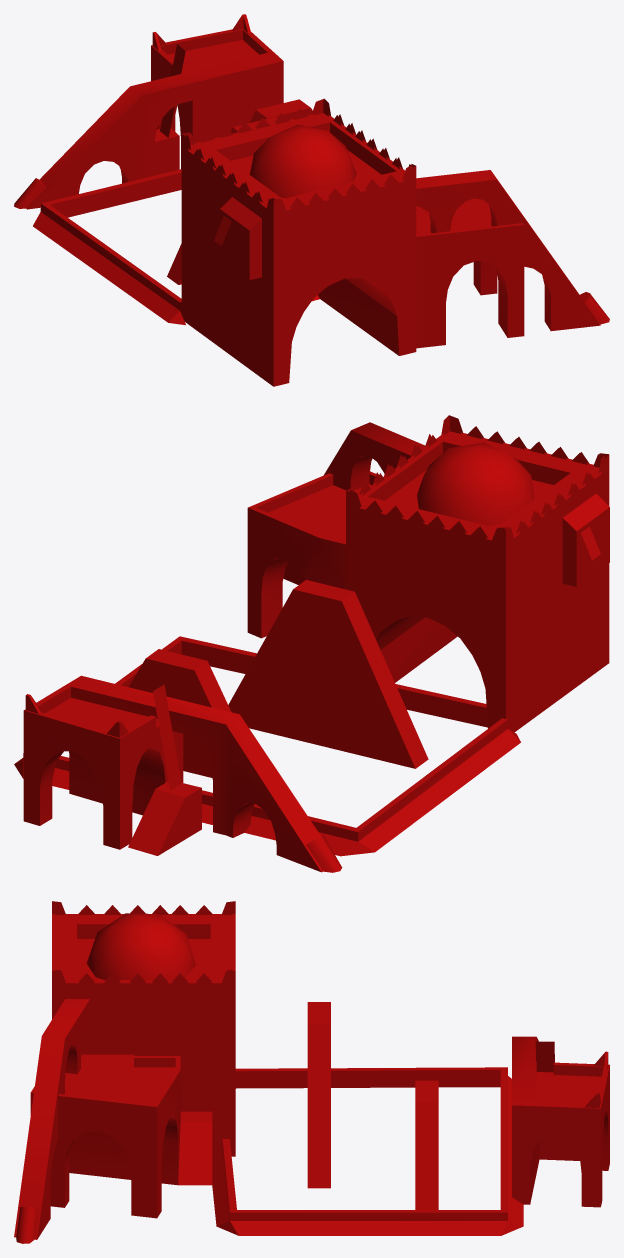
File: noria_lod0.glb
3 renders of one model, top to bottom at view 1: azimuth 30°, elevation 25°; view 2: azimuth 150°, elevation 25°; view 3: azimuth 270°, elevation 25°, orthographic. The views are drawn at different scales.
Parts seen in each view (by area): view 1: MODEL_building_lod0; view 2: MODEL_building_lod0; view 3: MODEL_building_lod0.
Boxes of the visible parts, box(x1,y1,x2,y2) form: MODEL_building_lod0: box(14, 14, 609, 386); MODEL_building_lod0: box(14, 415, 609, 872); MODEL_building_lod0: box(14, 901, 609, 1243).
Bounding box in the file's own units: 3.88 × 2.23 × 5.83.
